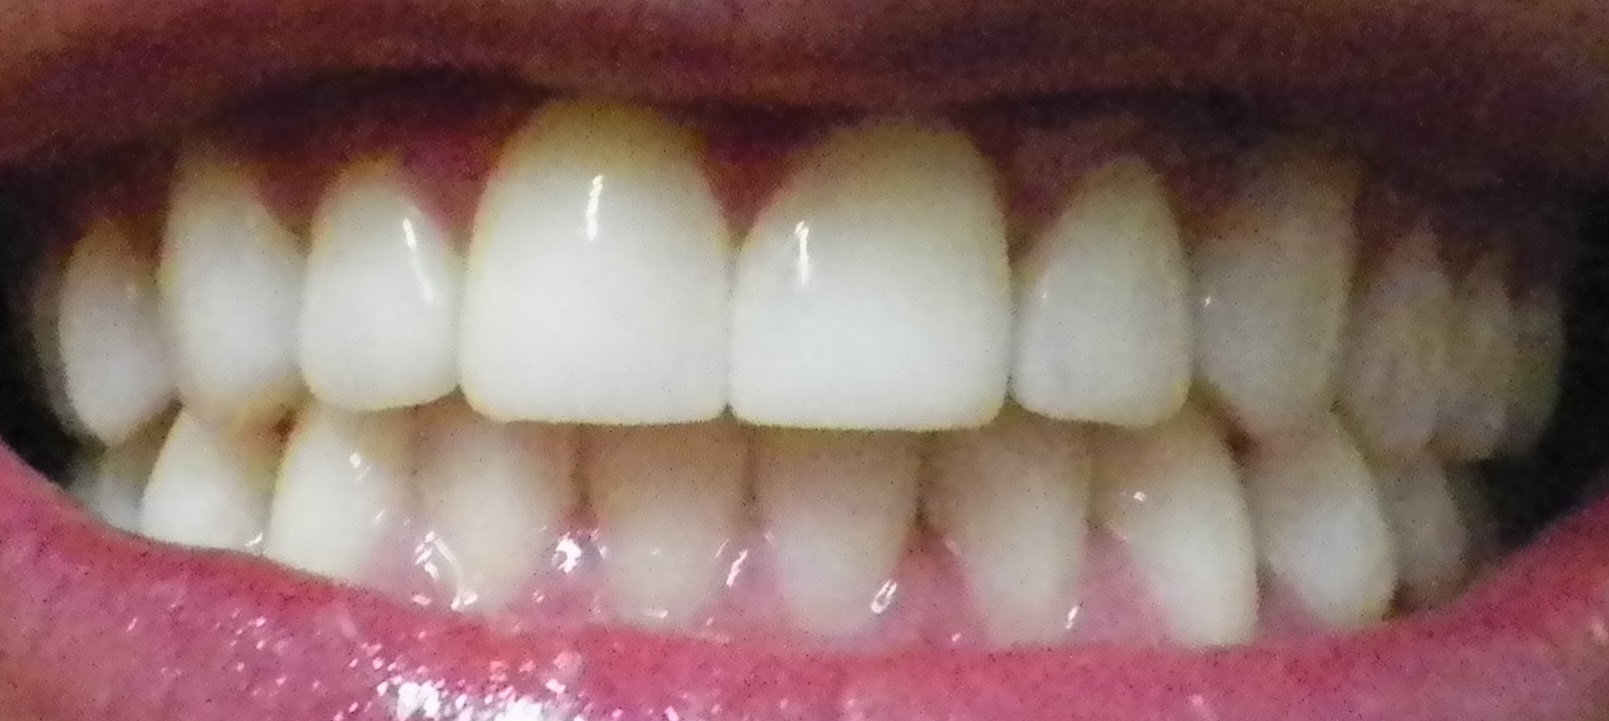boca: (27, 101, 1560, 628)
